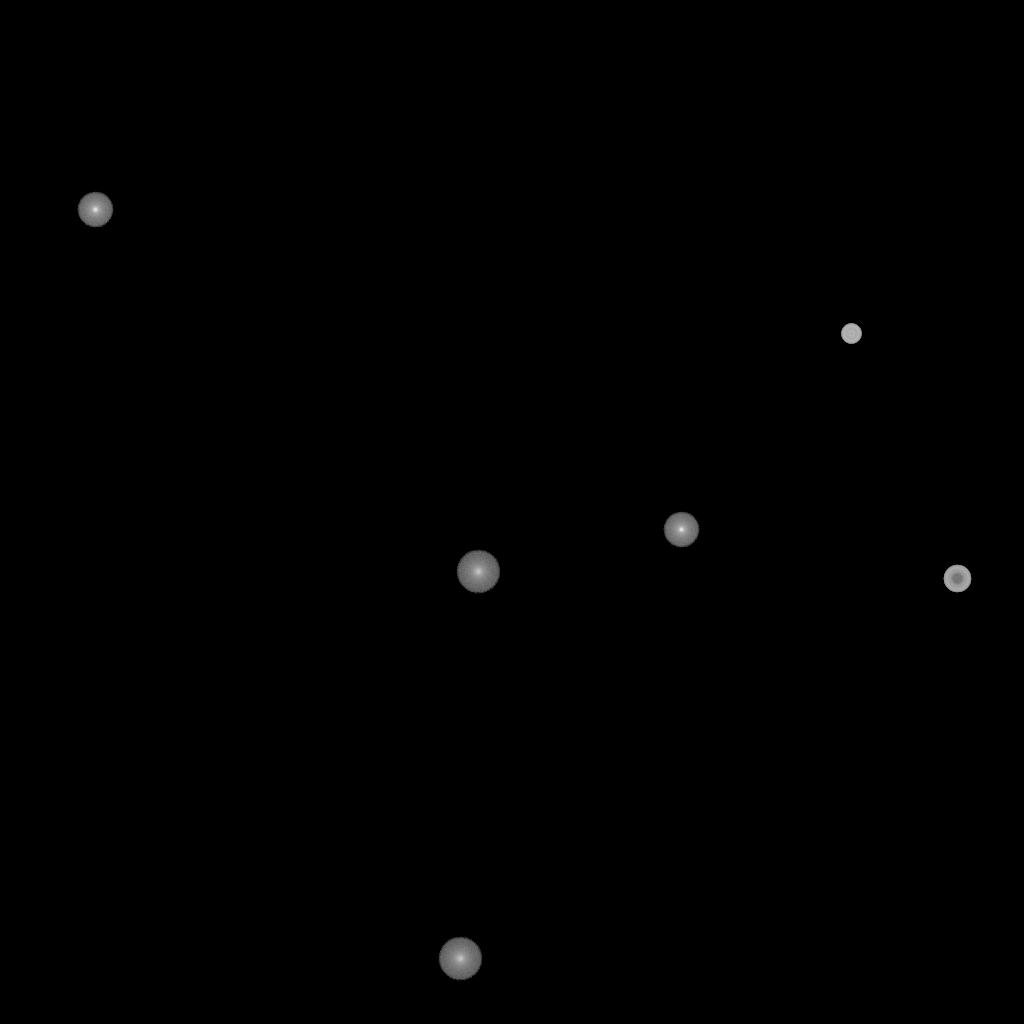depth:-40: (841, 324, 861, 344)
depth:-50: (943, 565, 971, 593)
depth:0: (77, 192, 113, 228), (663, 512, 699, 548)
depth:10: (438, 937, 482, 981), (456, 550, 500, 594)
